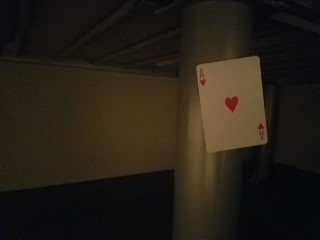AceOfHearts: (195, 56, 270, 154)
